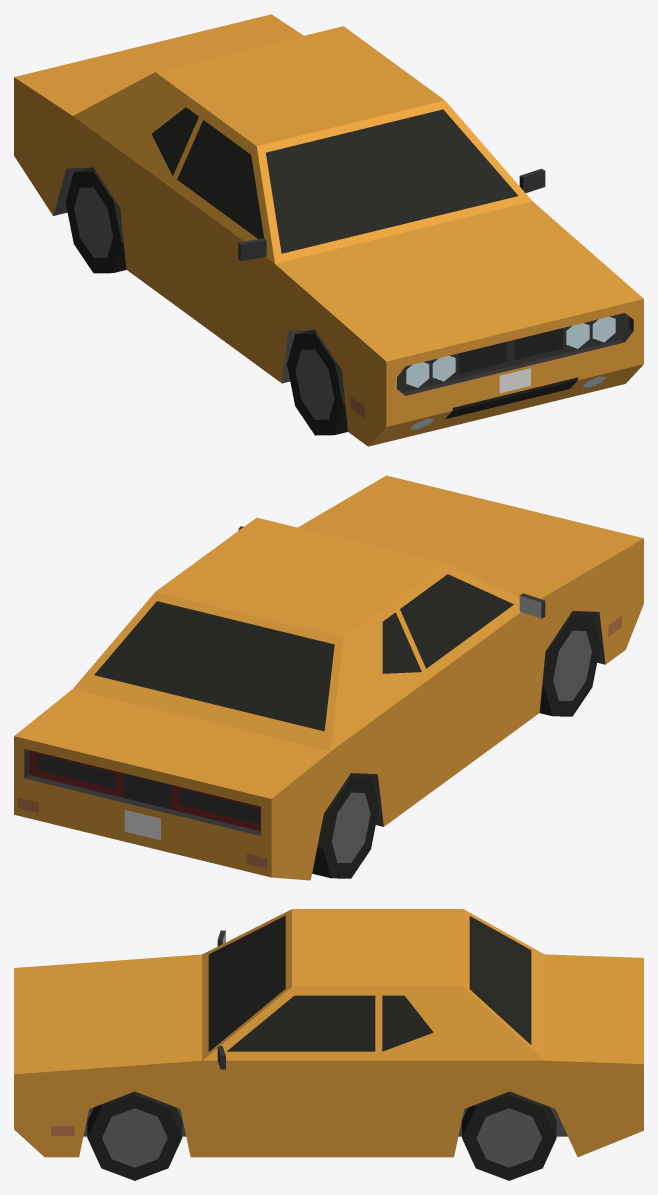
File: Veh_Muscle_Car_01_Yellow.glb
3 renders of one model, top to bottom at view 1: azimuth 30°, elevation 25°; view 2: azimuth 150°, elevation 25°; view 3: azimuth 270°, elevation 25°, orthographic. The views are drawn at different scales.
Parts seen in each view (by area): view 1: Muscle_Car_01_Yellow, Wheel_FR, Wheel_RR; view 2: Muscle_Car_01_Yellow, Wheel_RR, Wheel_FR; view 3: Muscle_Car_01_Yellow, Wheel_FL, Wheel_RL.
Boxes of the visible parts, x1,y1,x2,y2 form: Muscle_Car_01_Yellow: (14,14,643,446); Wheel_FR: (287,329,347,435); Wheel_RR: (65,167,126,273); Muscle_Car_01_Yellow: (14,475,643,880); Wheel_RR: (312,773,378,878); Wheel_FR: (539,611,600,716); Muscle_Car_01_Yellow: (14,909,643,1157); Wheel_FL: (87,1091,182,1180); Wheel_RL: (462,1091,556,1180).
Size of the model in its own units: 1.22 by 0.8156 by 2.59.
Materials: 1 (1 with a texture image).
